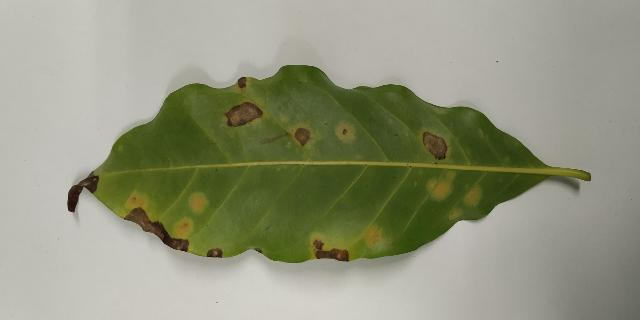miner: (118, 192, 192, 252), (68, 172, 99, 212), (224, 99, 269, 126), (310, 235, 354, 261), (420, 129, 450, 164), (428, 170, 454, 199), (286, 124, 313, 146), (362, 225, 384, 246), (188, 192, 208, 214), (337, 122, 353, 140), (465, 187, 480, 205), (235, 77, 251, 92), (206, 247, 223, 257), (449, 210, 460, 220), (267, 138, 276, 141), (256, 248, 261, 251), (438, 110, 441, 112)
